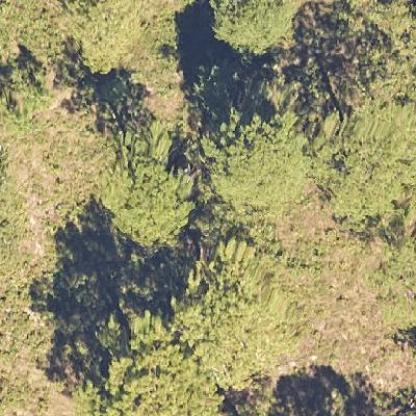tree-top: (94, 313, 230, 415), (90, 121, 198, 241), (315, 98, 415, 223), (201, 110, 313, 219), (72, 2, 181, 73), (204, 0, 308, 53), (4, 66, 52, 136)
